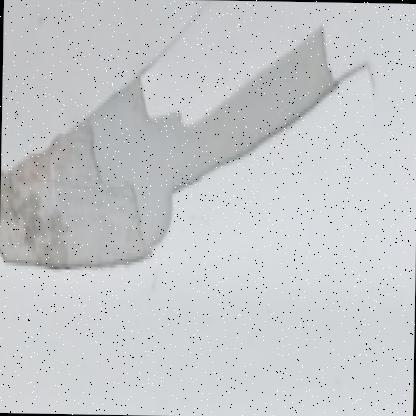Crack: (0, 0, 391, 310)
